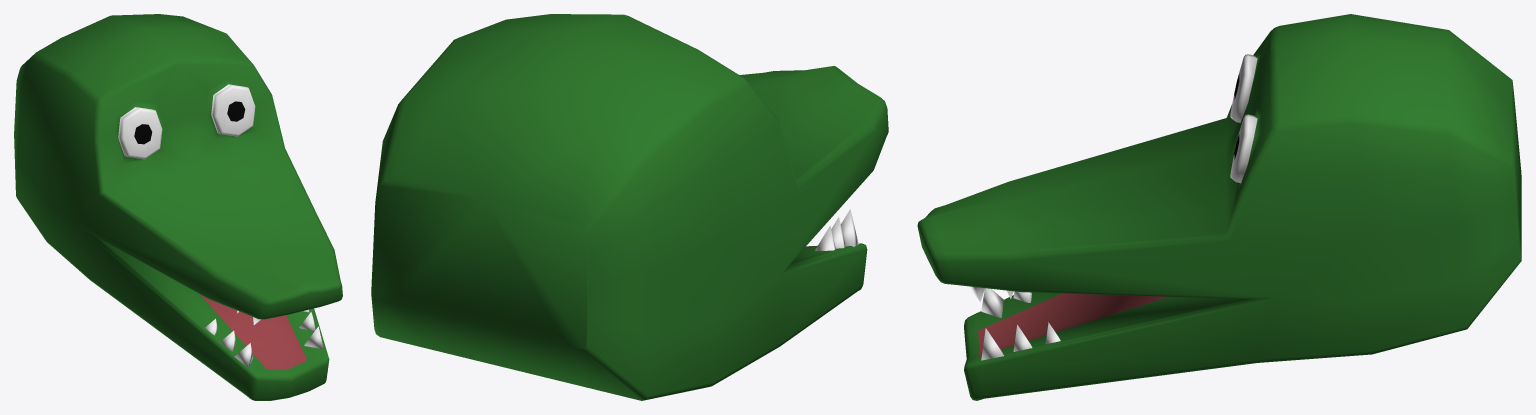
File: Alligator.glb
The picture shows the model from 3 angles, left to right: view 1: azimuth 30°, elevation 25°; view 2: azimuth 150°, elevation 25°; view 3: azimuth 270°, elevation 25°; orthographic projection. The views are drawn at different scales.
Parts seen in each view (by area): view 1: Jacare; view 2: Jacare; view 3: Jacare.
Boxes of the visible parts, box(x1,y1,x2,y2) form: Jacare: box(14, 14, 342, 400); Jacare: box(371, 14, 888, 400); Jacare: box(917, 14, 1521, 400).
Size of the model in its own units: 0.7324 by 0.9251 by 1.45.
